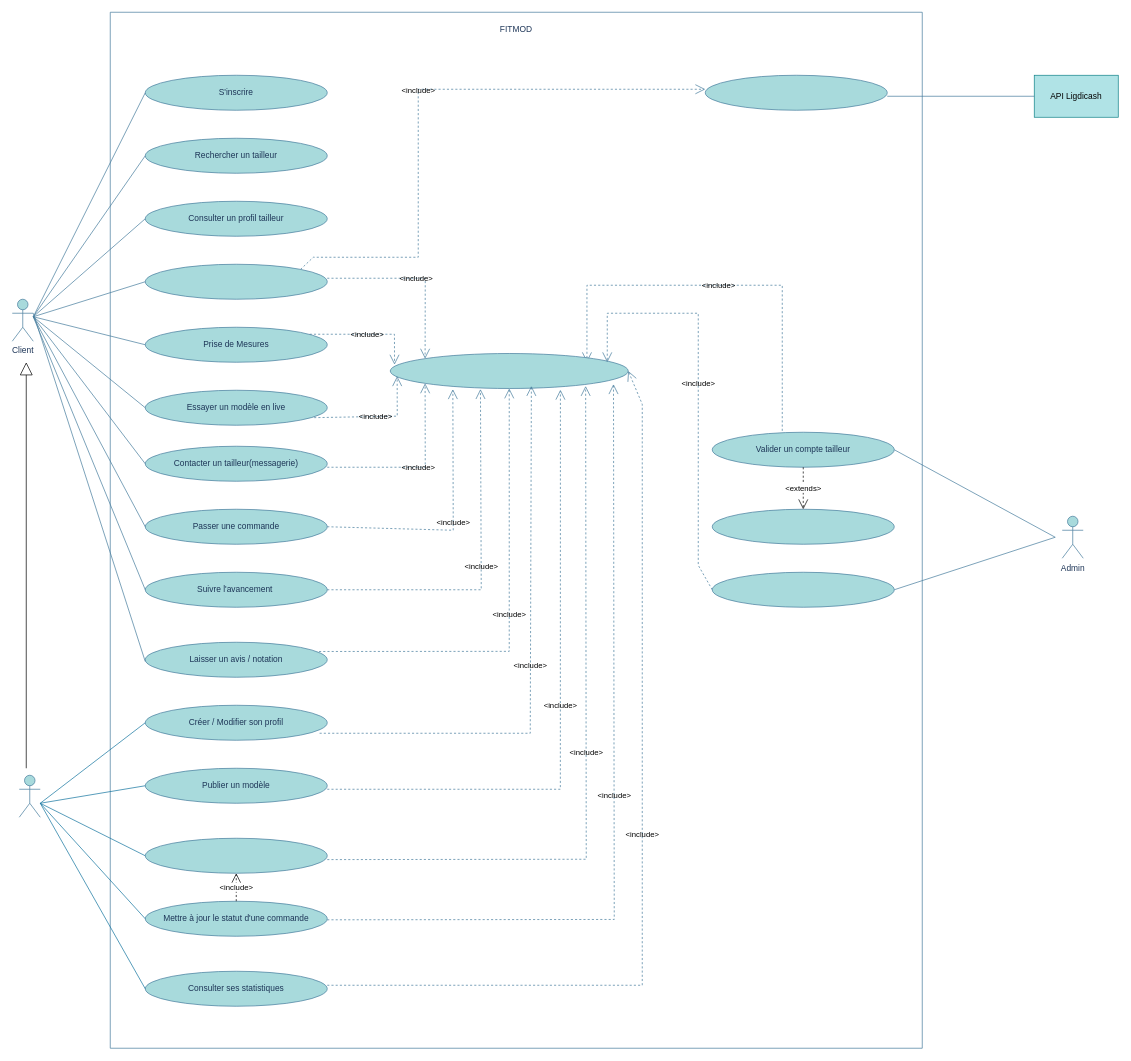
Image size: 1131x1061. Some labels were removed from this diagram. Here are the shapes that lost their labels. From the top down, the box of each, then its label:
(705, 75, 887, 110): Traiter une transaction
(145, 264, 327, 299): Effectuer paiement
(390, 353, 628, 388): S'authentifier
(712, 509, 894, 544): Suspendre un compte
(712, 572, 894, 607): Exporter les rapports statistiques
(19, 775, 40, 817): Tailleur
(145, 838, 327, 873): Accepter / Refuser une commande
